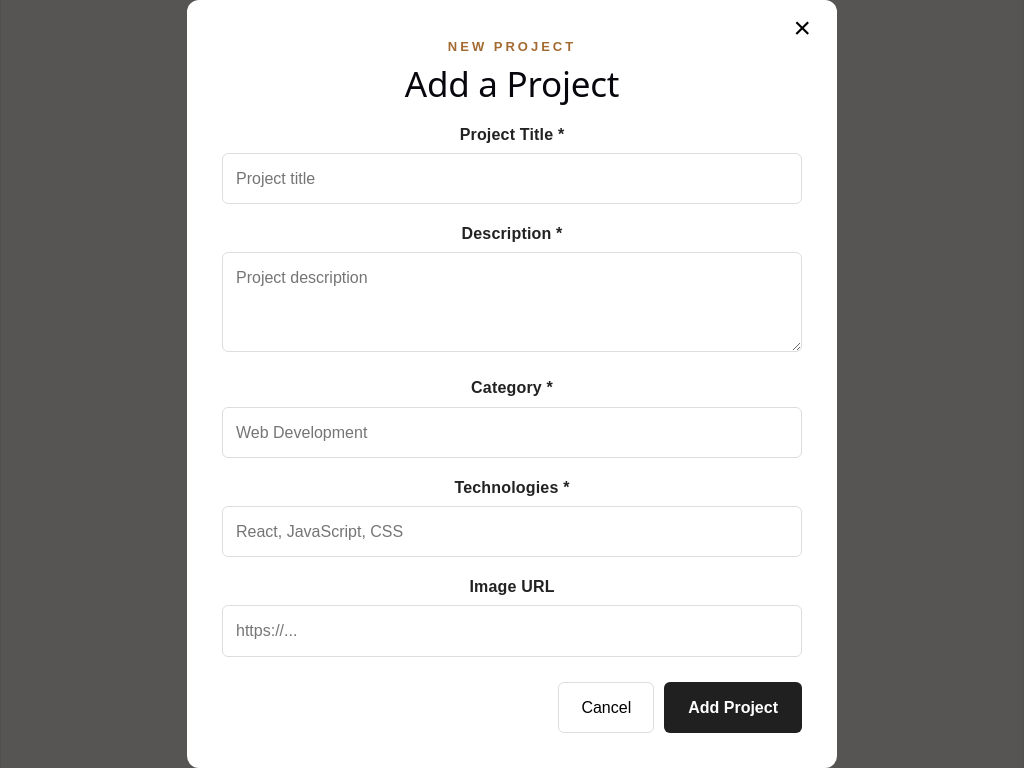
Test case: ProjectForm › shows validation message when required fields are empty
The image size is (1024, 768).
Step 1. Click the button "Add Project" → (733,707), box [664,682,802,733]
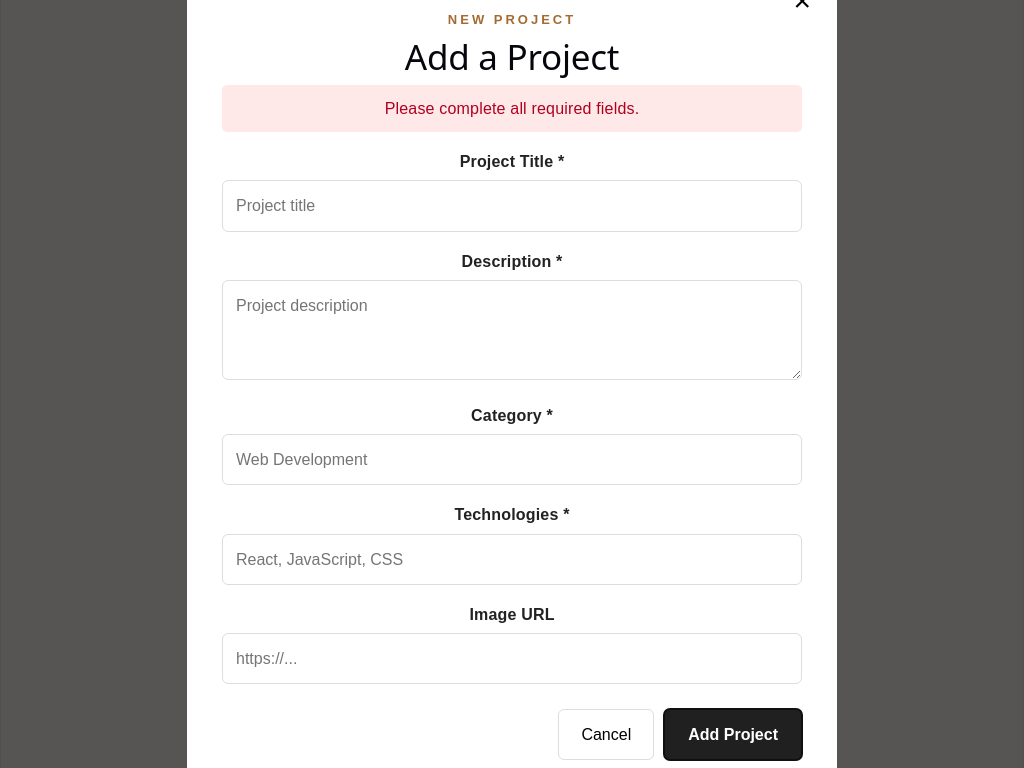
Now the message "Please complete all required fields." is shown, box [222,85,802,132]
